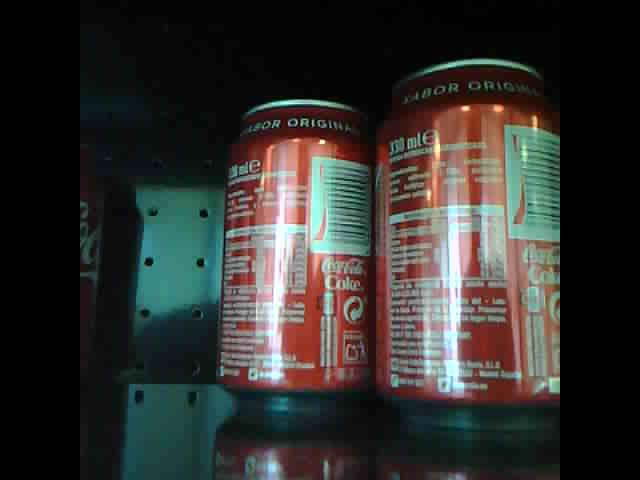coca cola: (372, 56, 559, 426), (211, 98, 375, 416)
